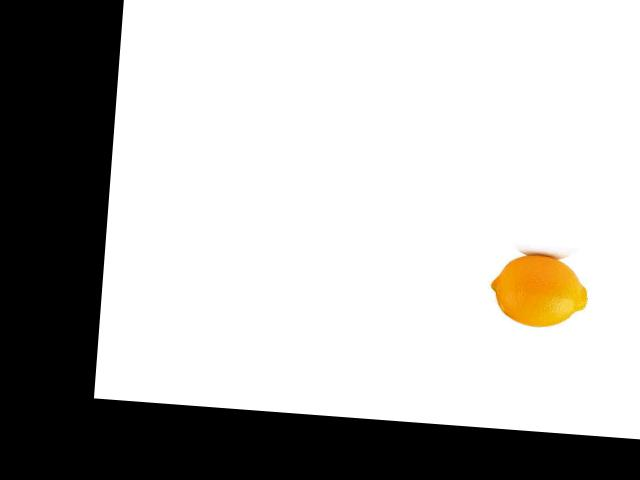lemon: (486, 246, 595, 332)
